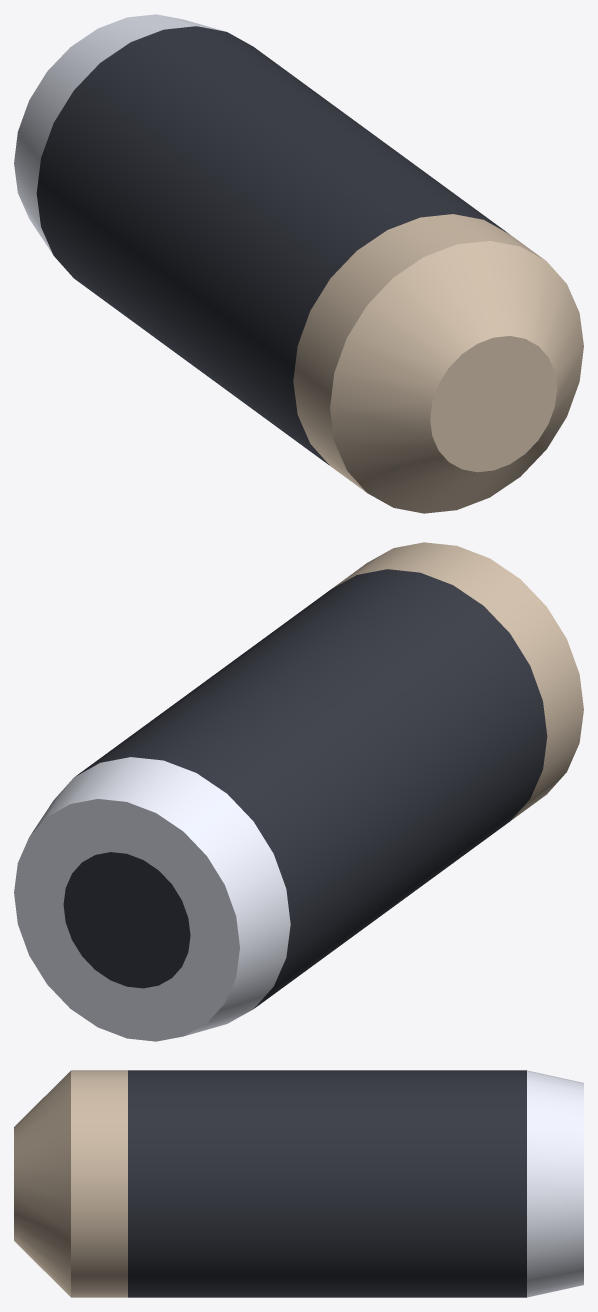
The model's file is shell.glb.
3 renders of one model, top to bottom at view 1: azimuth 30°, elevation 25°; view 2: azimuth 150°, elevation 25°; view 3: azimuth 270°, elevation 25°, orthographic. The views are drawn at different scales.
Parts seen in each view (by area): view 1: mergedBlocks(Clone); view 2: mergedBlocks(Clone); view 3: mergedBlocks(Clone).
Boxes of the visible parts, x1,y1,x2,y2 form: mergedBlocks(Clone): [14, 14, 583, 513]; mergedBlocks(Clone): [14, 542, 583, 1041]; mergedBlocks(Clone): [14, 1070, 583, 1297].
Bounding box in the file's own units: 0.4 × 0.4 × 1.
